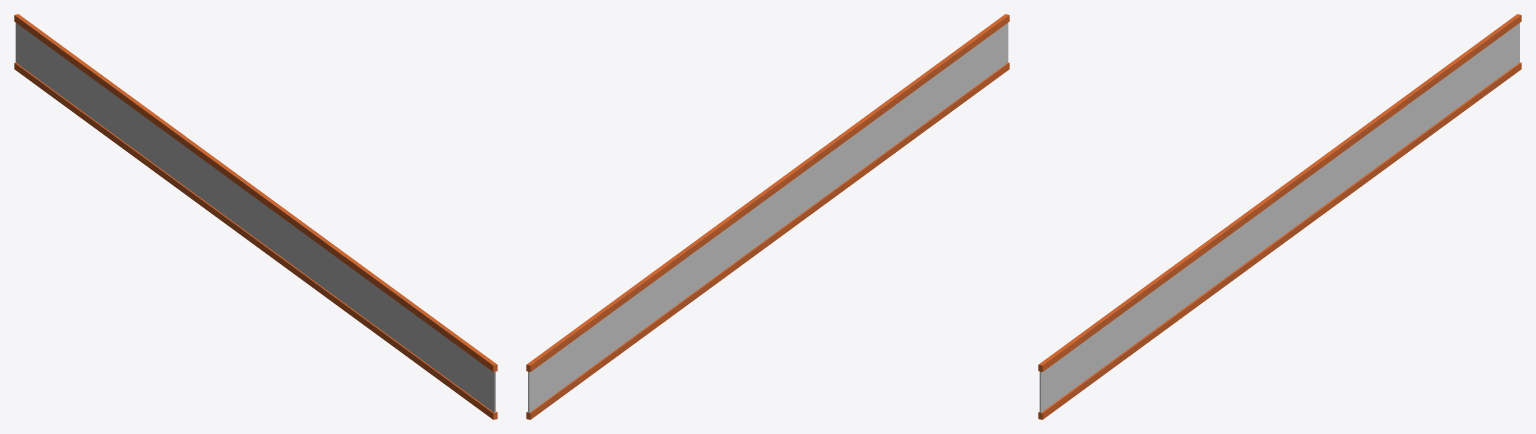
Rendered from Fencing_1.fbx.
3 views of the same model, side by side, from view 1: azimuth 30°, elevation 25°; view 2: azimuth 150°, elevation 25°; view 3: azimuth 330°, elevation 25° (orthographic).
Parts seen in each view (by area): view 1: Cube.359, Cube.190, Cube.164; view 2: Cube.359, Cube.190, Cube.164; view 3: Cube.359, Cube.190, Cube.164.
Part boxes in pixels (bbox=[...]): Cube.359: bbox=[15, 23, 495, 412]; Cube.190: bbox=[14, 14, 497, 371]; Cube.164: bbox=[14, 62, 497, 419]; Cube.359: bbox=[528, 23, 1008, 412]; Cube.190: bbox=[526, 14, 1009, 371]; Cube.164: bbox=[526, 62, 1009, 419]; Cube.359: bbox=[1039, 23, 1519, 412]; Cube.190: bbox=[1038, 14, 1521, 371]; Cube.164: bbox=[1038, 62, 1521, 419].
Size of the model in its own units: 10 by 125 by 2000.
